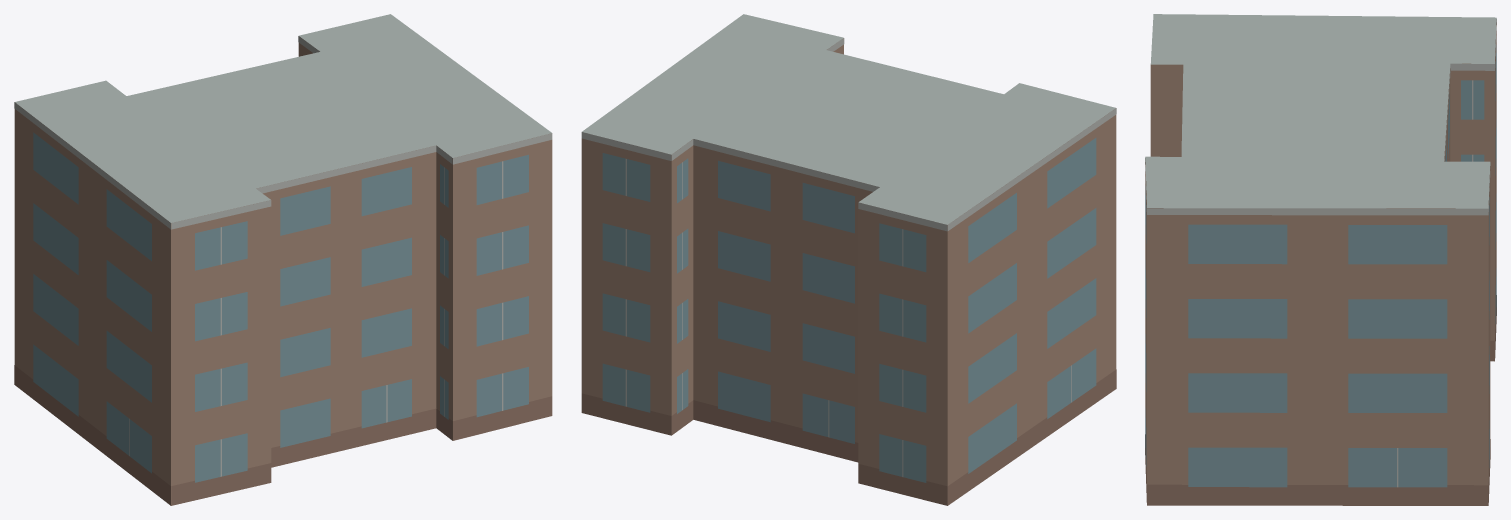
File: survey-upis-32581547.glb
3 views of the same model, side by side, from view 1: azimuth 30°, elevation 25°; view 2: azimuth 150°, elevation 25°; view 3: azimuth 270°, elevation 25° (orthographic). The views are drawn at different scales.
Visible parts, largest first — view 1: survey-upis-32581547.tmp; view 2: survey-upis-32581547.tmp; view 3: survey-upis-32581547.tmp.
Boxes of the visible parts, x1,y1,x2,y2 form: survey-upis-32581547.tmp: (14, 14, 552, 505); survey-upis-32581547.tmp: (581, 14, 1116, 505); survey-upis-32581547.tmp: (1145, 14, 1496, 505).
Size of the model in its own units: 14.74 by 10.5 by 11.26.
